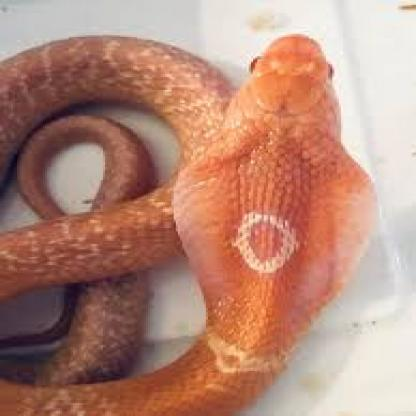snakes: (2, 22, 382, 416)
